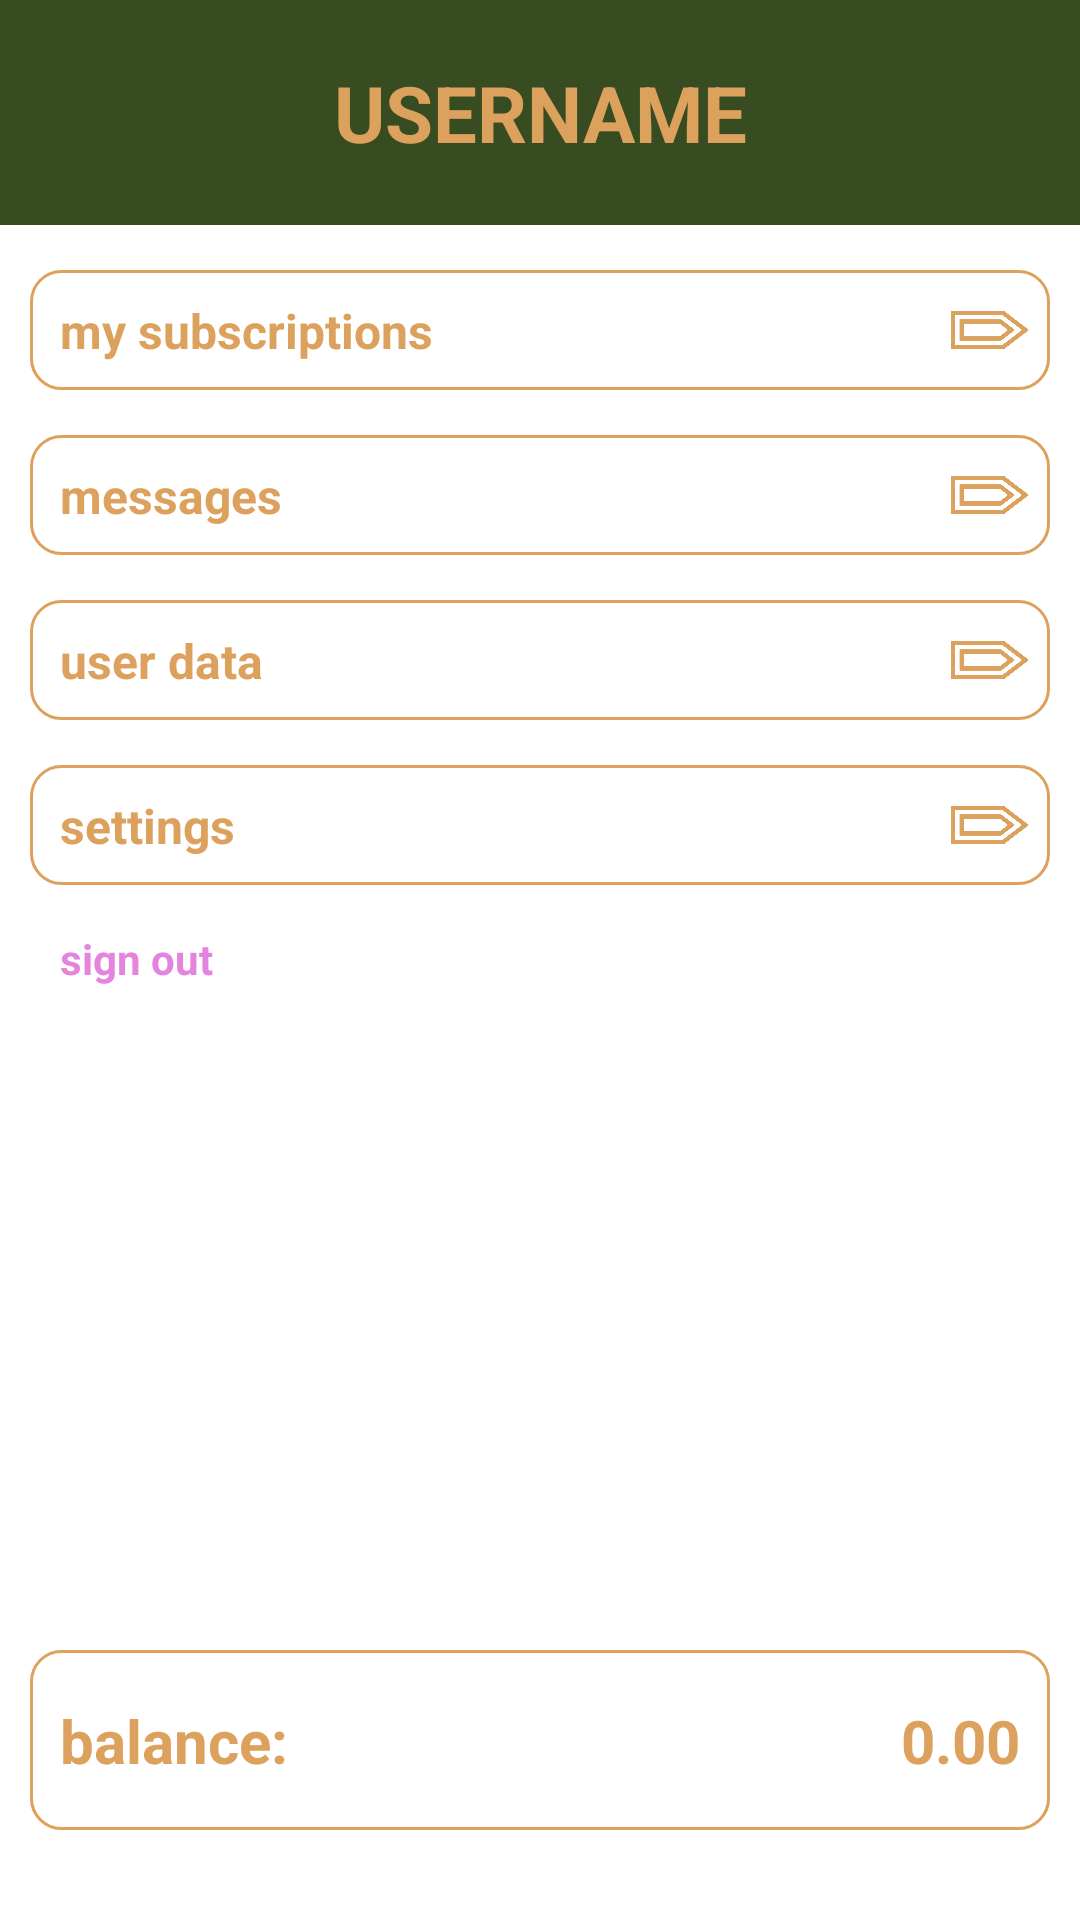

Icons on this 1080 x 1920 Android screen, each with its box as (x1, y1, x2, y2):
next: (951, 311, 1028, 349), (951, 476, 1028, 514), (951, 641, 1028, 679), (951, 806, 1028, 844)
